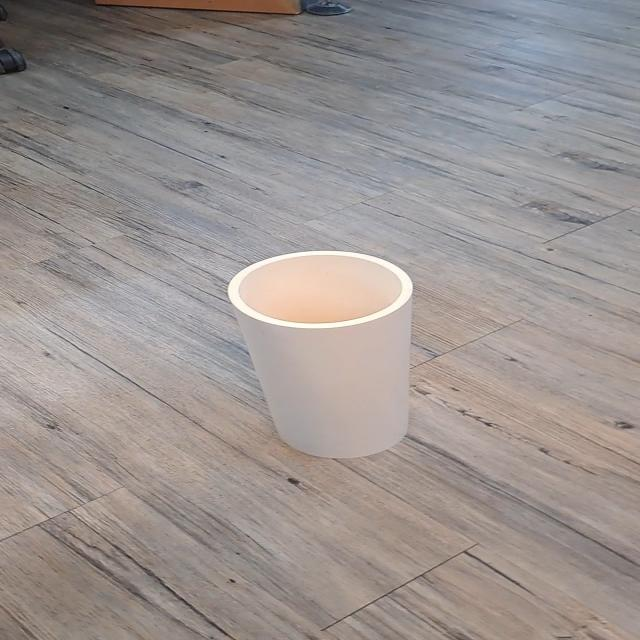CORAL: (190, 239, 495, 473)
